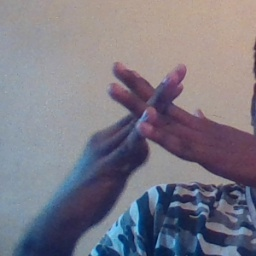W: (92, 50, 210, 175)
